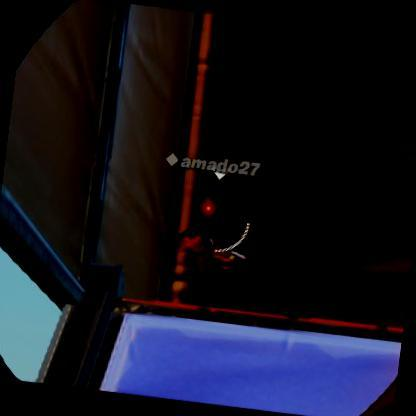Person: (183, 200, 239, 324)
